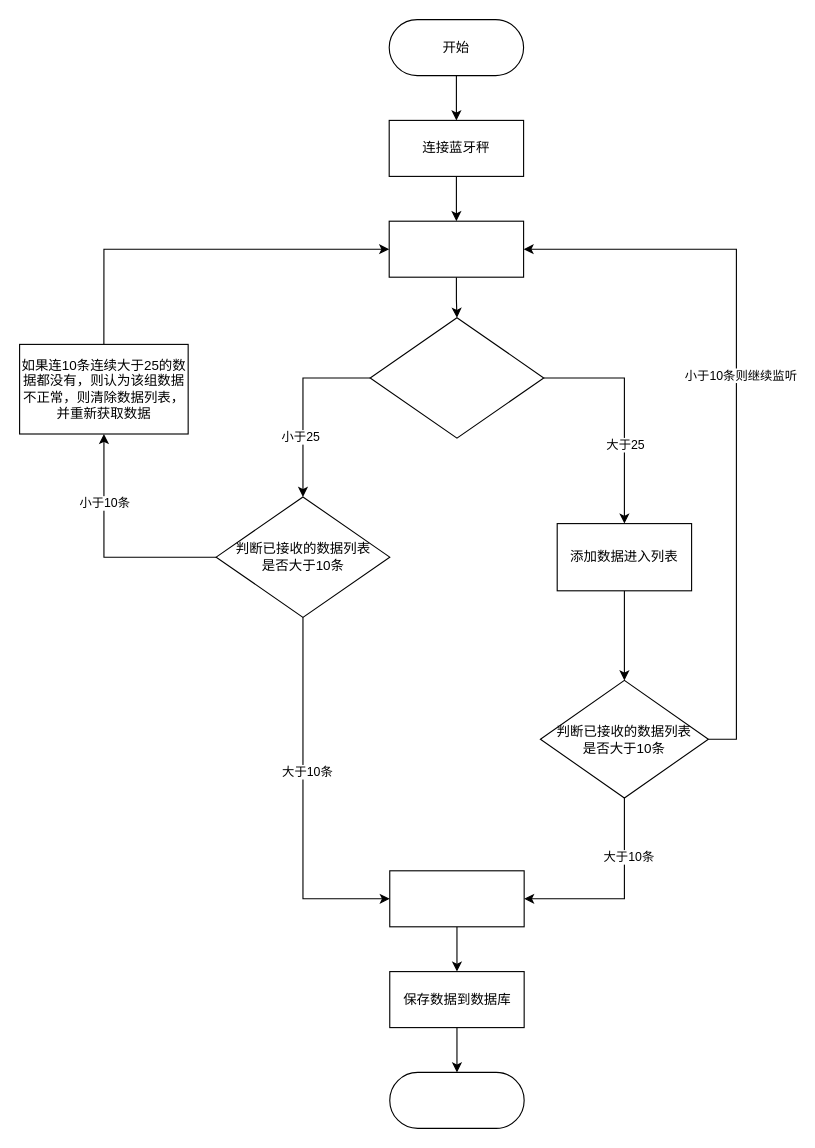
Some shapes in this 815 by 1148 pixel diagram are drawn without their labels. The centre of each missing label's shape, as x and y in pixels:
利用滑动窗口算法对数据进行测算，得出相对准确的数值: the point at 456,898
监听蓝牙发送的数据 （每50毫秒发送一次数据）: the point at 456,248
结束: the point at 456,1099
解析数据 并判断数值是否 大于25: the point at 456,377
